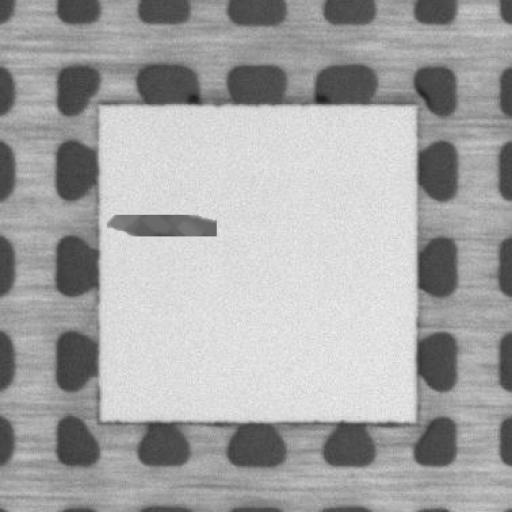DIE_INK: (105, 214, 215, 236)
